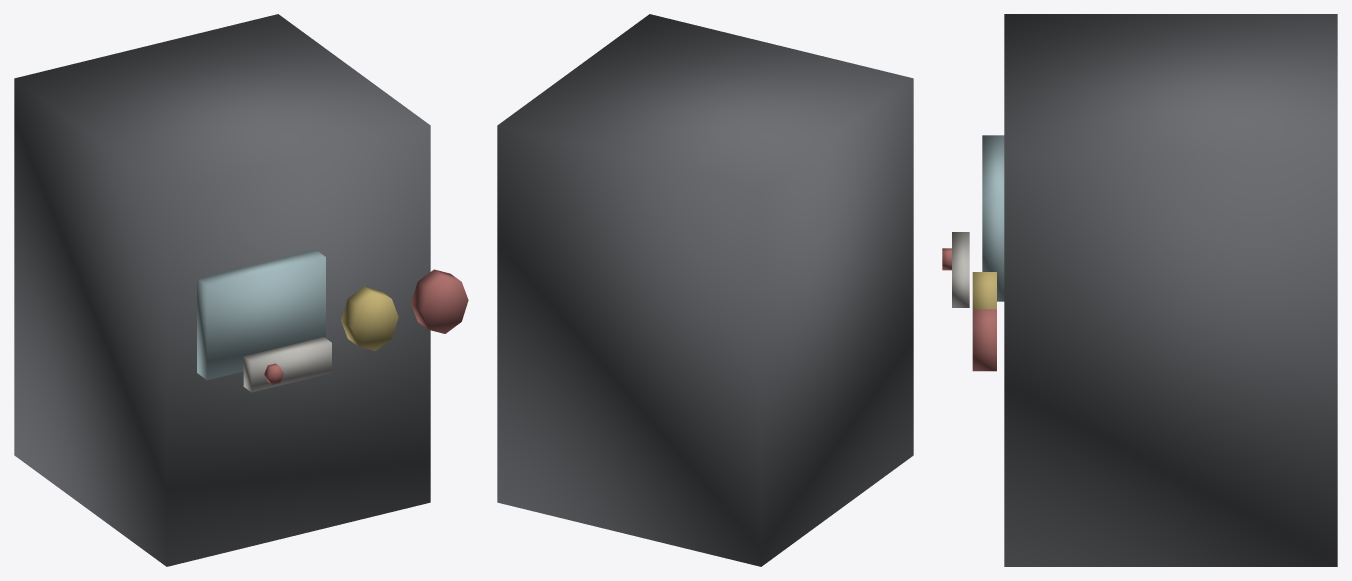
Rendered from multimeter_station__tall.glb.
The picture shows the model from 3 angles, left to right: view 1: azimuth 30°, elevation 25°; view 2: azimuth 150°, elevation 25°; view 3: azimuth 270°, elevation 25°; orthographic projection. The views are drawn at different scales.
Parts seen in each view (by area): view 1: world; view 2: world; view 3: world.
Part boxes in pixels (x1,y1,x2,y2): world: (14,14,468,566); world: (497,14,913,566); world: (942,14,1337,566).
Bounding box in the file's own units: 0.37 × 0.464 × 0.4035.
